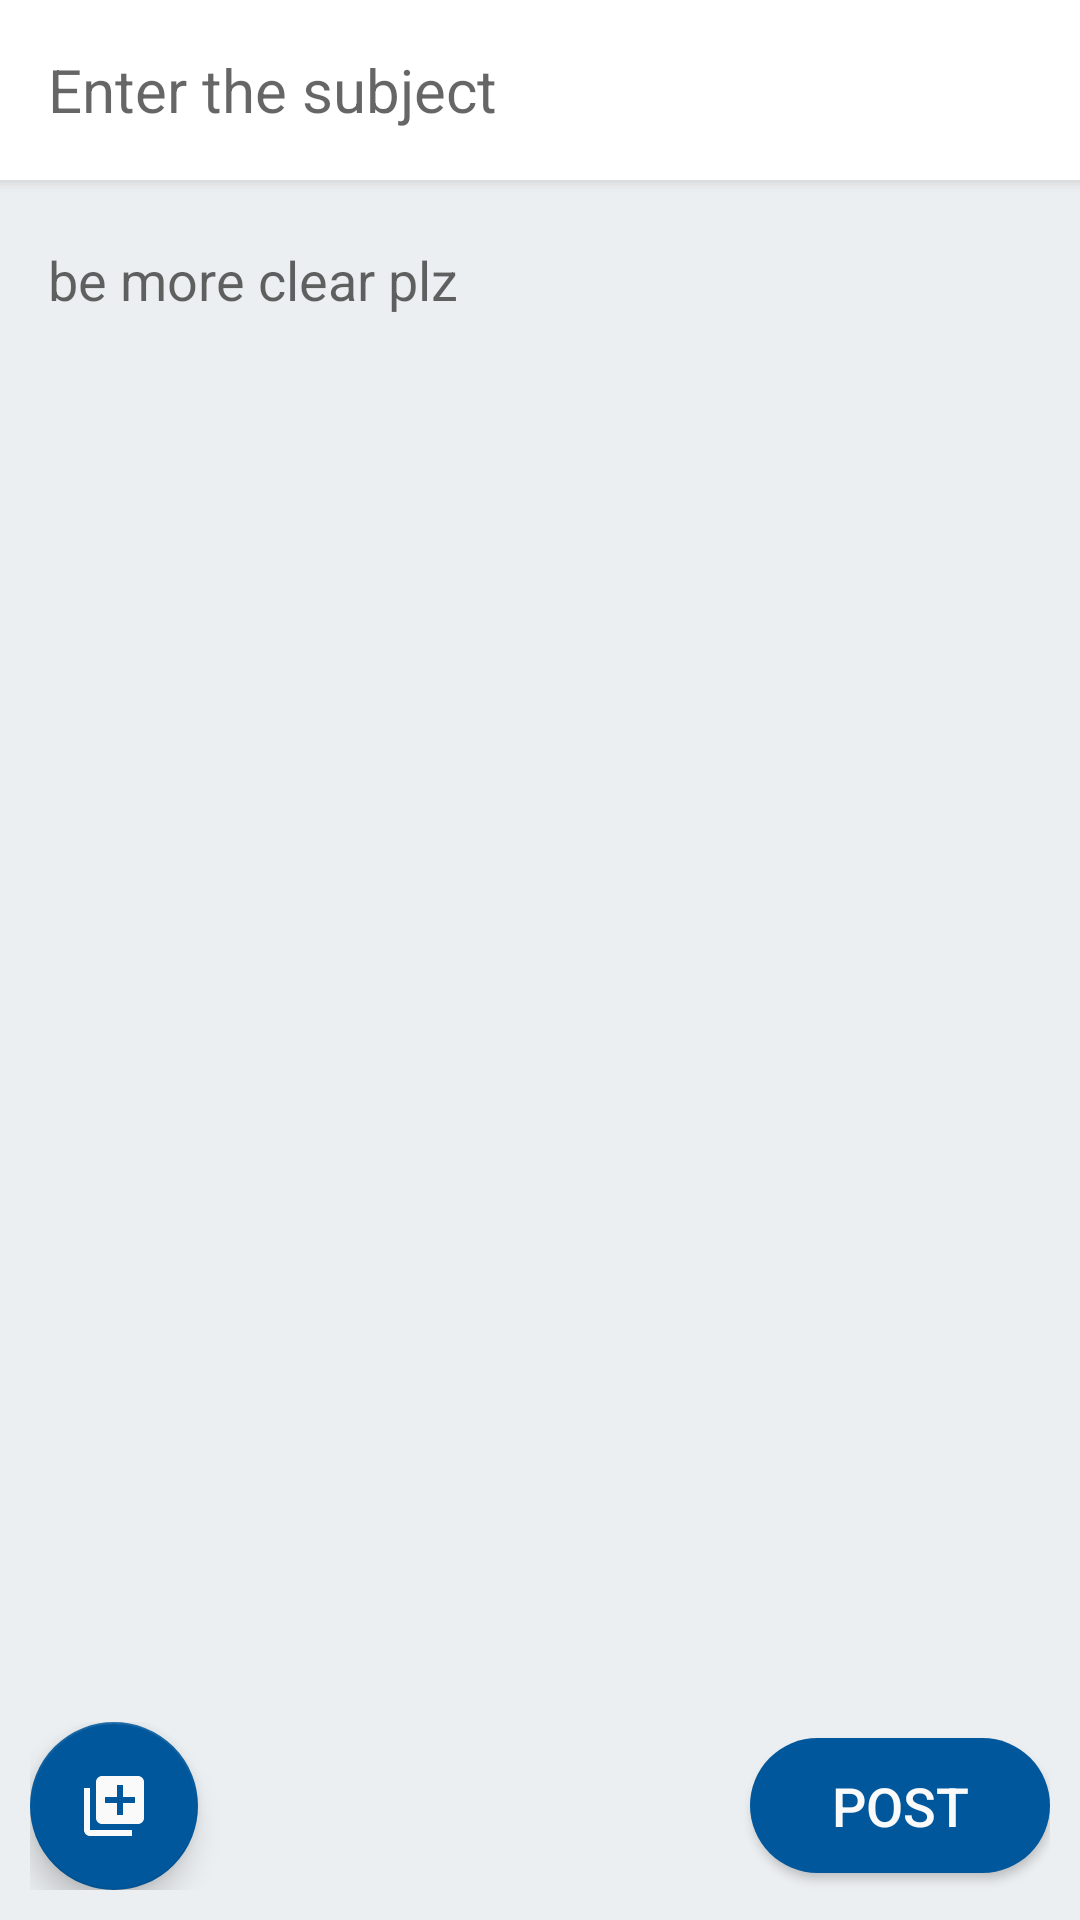

Point at icon controls on the screen. Image size 1080px x 1920px, points as (x=x, y=y).
add: (x=114, y=1806)
